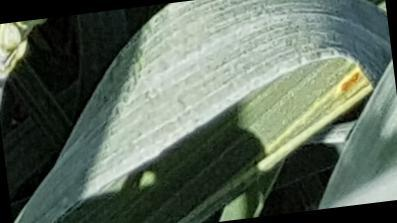Wheat: (198, 2, 384, 84), (77, 131, 242, 191), (104, 89, 313, 128), (36, 197, 190, 223)
